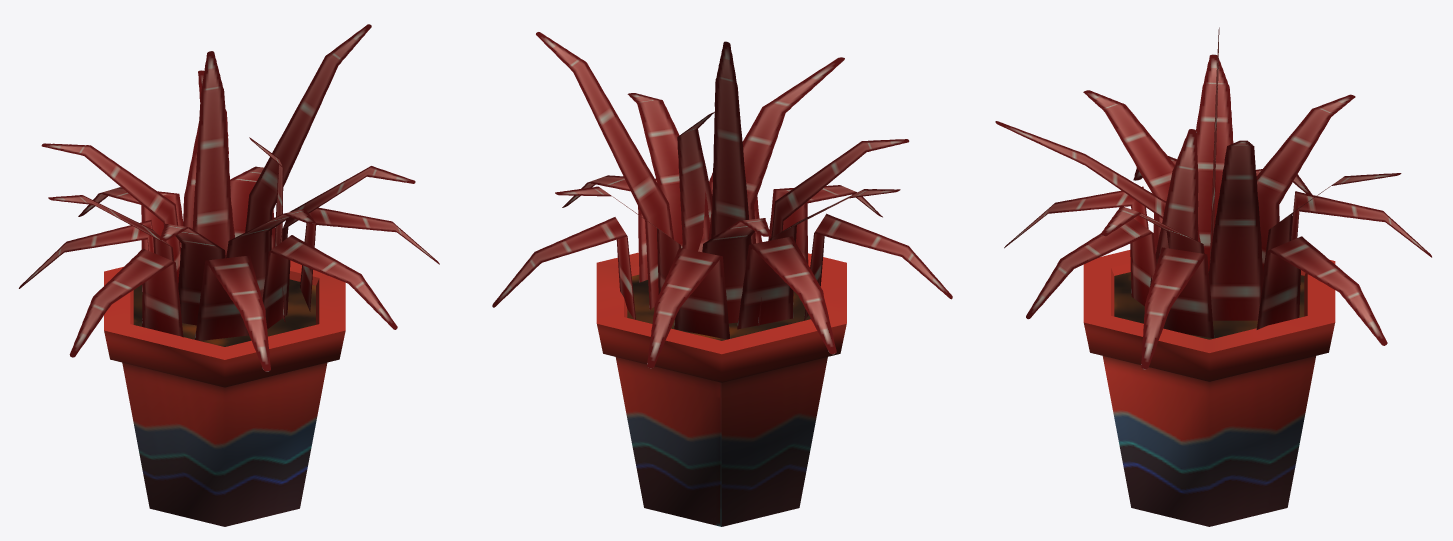
Rendered from Potted Plant_E.FBX.
The picture shows the model from 3 angles, left to right: view 1: azimuth 30°, elevation 25°; view 2: azimuth 150°, elevation 25°; view 3: azimuth 270°, elevation 25°; orthographic projection. The views are drawn at different scales.
Parts seen in each view (by area): view 1: Potted Plant; view 2: Potted Plant; view 3: Potted Plant.
Part boxes in pixels (<box>): Potted Plant: <box>18,24,439,526</box>; Potted Plant: <box>492,32,952,526</box>; Potted Plant: <box>995,27,1432,526</box>.
Size of the model in its own units: 141 by 152 by 134.
Materials: 2 (2 with a texture image).
